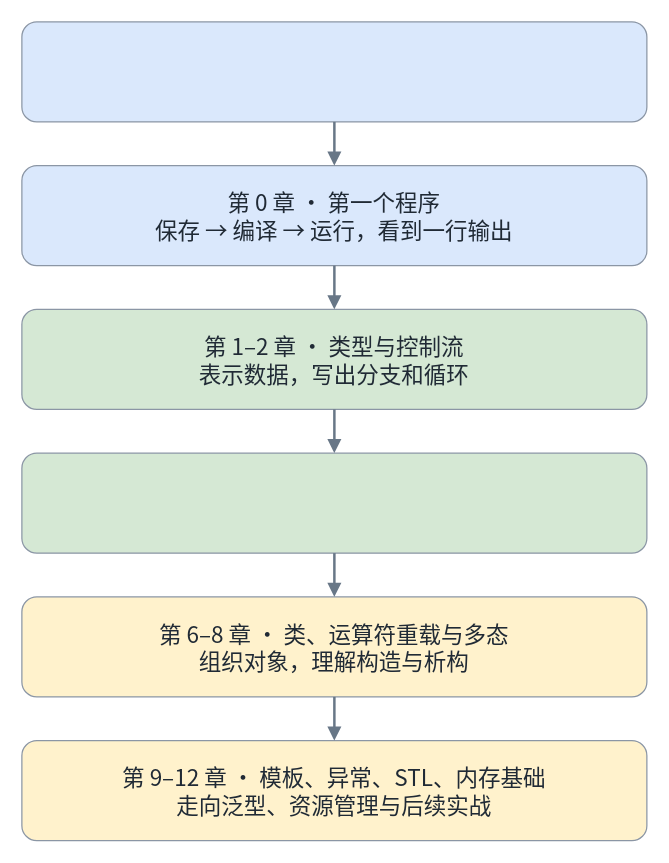
The diagram is 669 pixels wide and 863 high, and some of its shapes have lost their labels. The centre of each missing label's shape, as x and y in pixels:
第 3–5 章 · 函数、指针、数组与字符串 拆分逻辑，理解参数与数据访问: the point at 334,502
起点：先让编译器跑起来 Linux / Windows 任选一条: the point at 334,71
